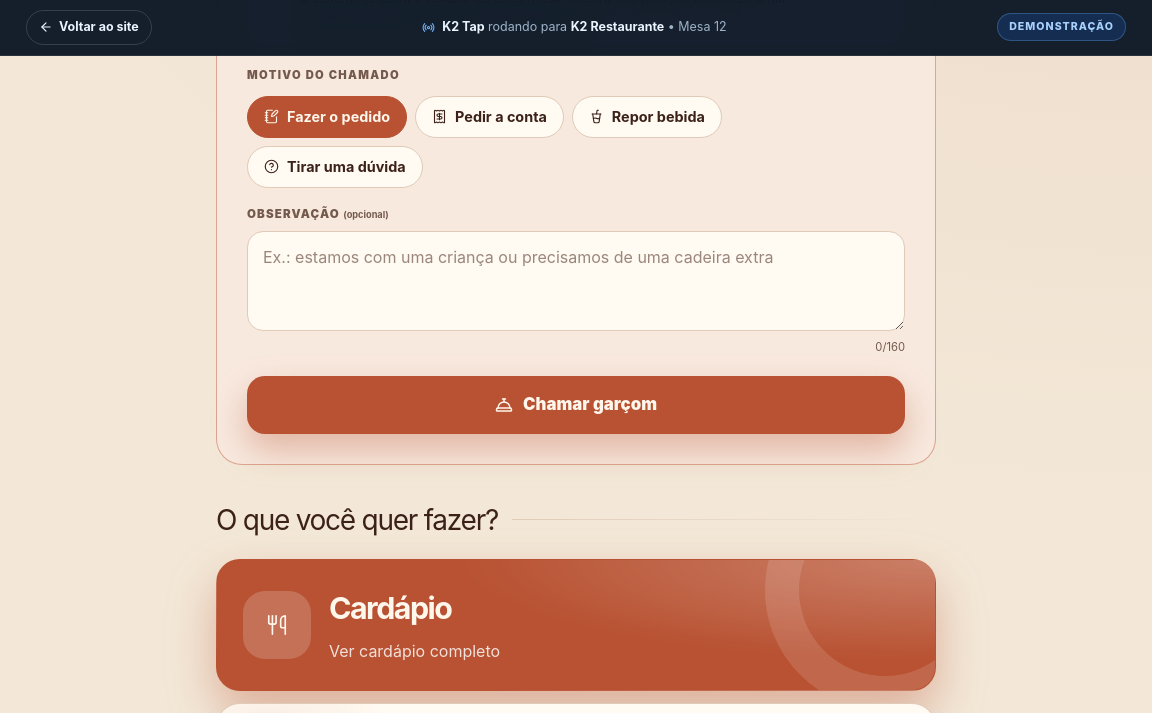
Test: fila compartilhada entre a mesa e a equipe › informa e atualiza a posição da mesa para o cliente
(page scrolled)
Click the button "Chamar garçom". click: (576, 405)
box: [247,376,905,434]
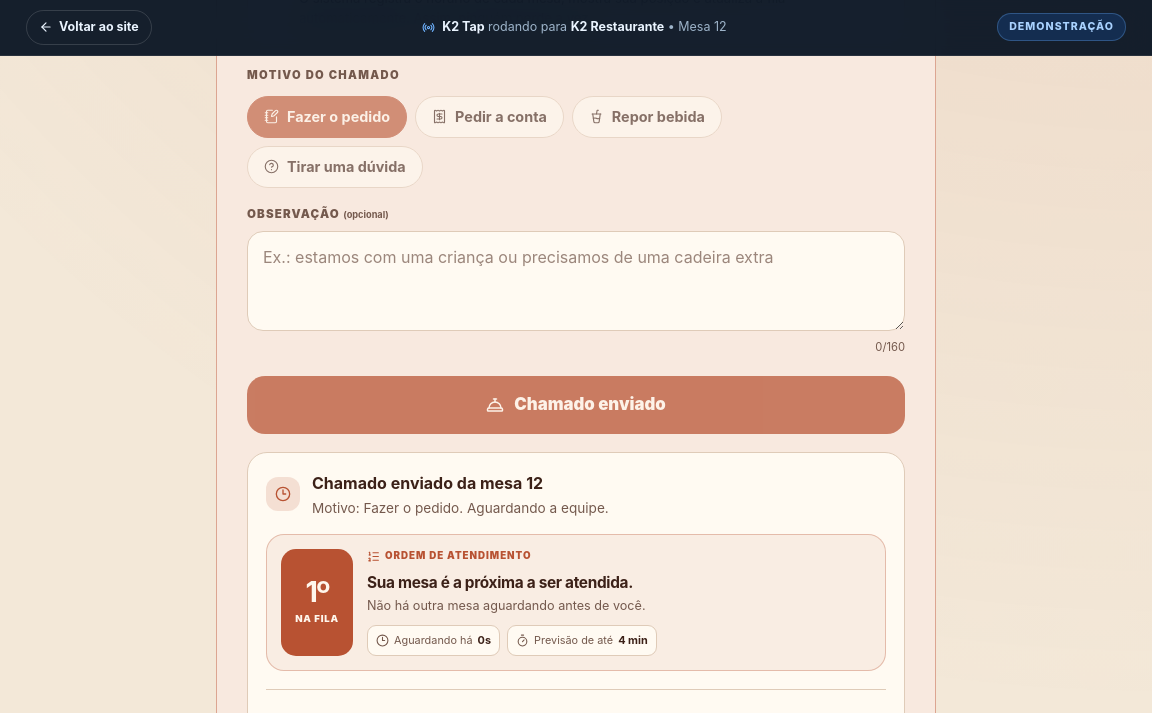
expect the text "1 mesa está antes de você." is shown: met, box [367,598,646,613]
expect the text "Sua mesa é a próxima a ser atendida." is shown: met, box [367,573,633,592]
